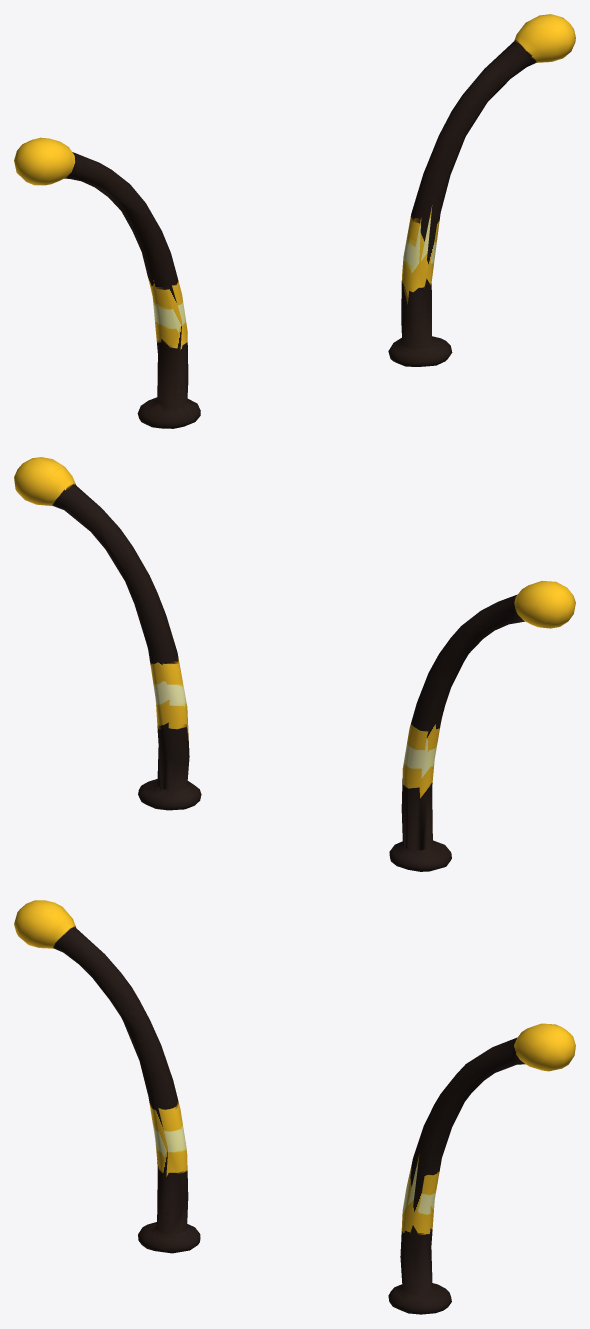
The model's file is antennae.fbx.
The picture shows the model from 3 angles, top to bottom: view 1: azimuth 30°, elevation 25°; view 2: azimuth 150°, elevation 25°; view 3: azimuth 330°, elevation 25°; orthographic projection.
Visible parts, largest first — view 1: antennae; view 2: antennae; view 3: antennae.
Part boxes in pixels (<box>): antennae: <box>14,14,575,428</box>; antennae: <box>14,457,575,871</box>; antennae: <box>14,900,575,1314</box>.
Size of the model in its own units: 46.01 by 24.38 by 4.33.
Materials: 1 (1 with a texture image).
